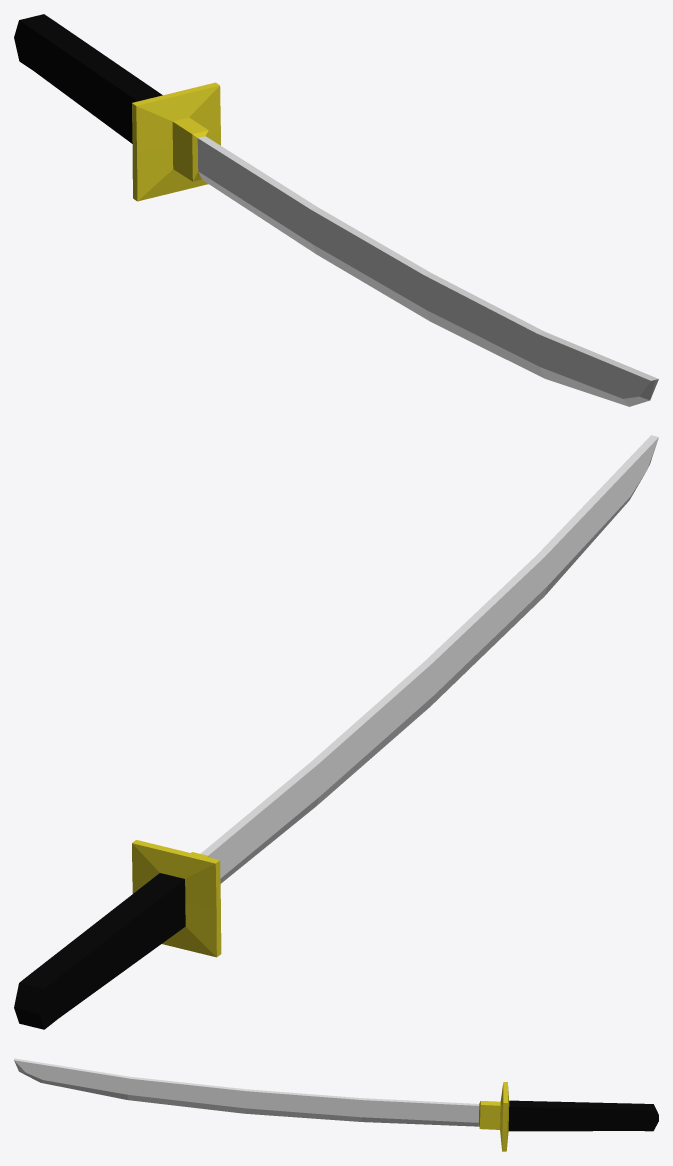
Rendered from Katana.fbx.
The picture shows the model from 3 angles, top to bottom: view 1: azimuth 30°, elevation 25°; view 2: azimuth 150°, elevation 25°; view 3: azimuth 270°, elevation 25°; orthographic projection. The views are drawn at different scales.
Parts seen in each view (by area): view 1: katana; view 2: katana; view 3: katana.
Boxes of the visible parts, <box> form: katana: <box>14,14,658,406</box>; katana: <box>14,435,658,1029</box>; katana: <box>14,1058,658,1151</box>.
Size of the model in its own units: 0.1697 by 0.3086 by 2.2.
